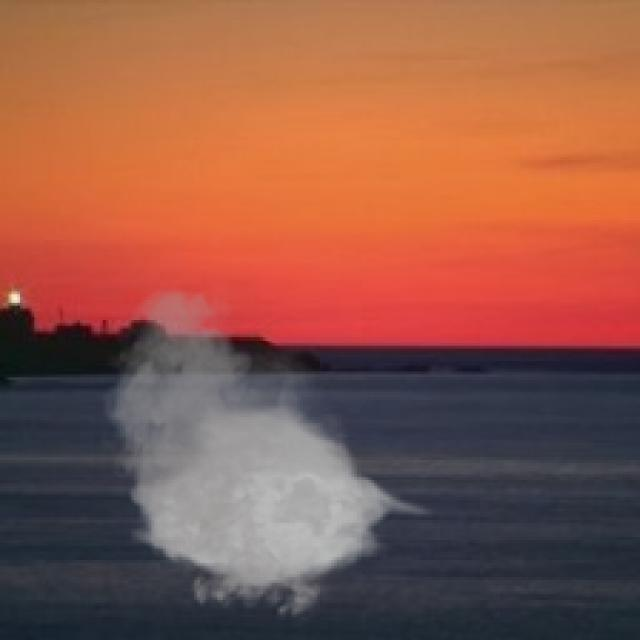Smoke: (94, 282, 437, 628)
